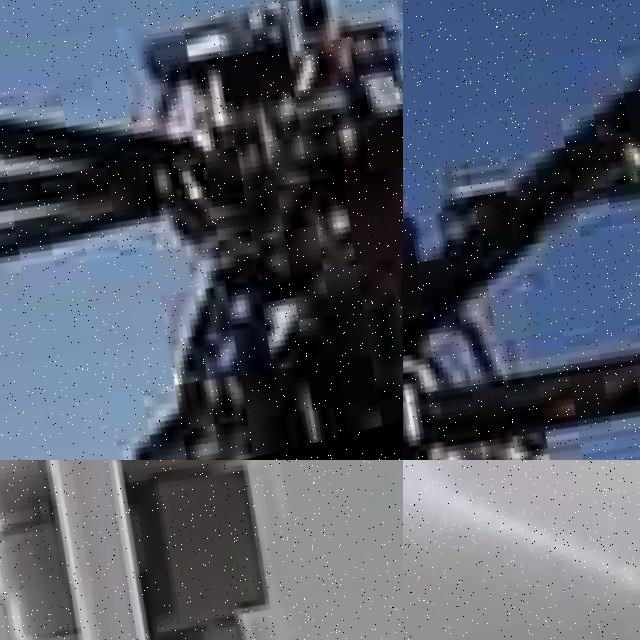0: (0, 0, 403, 460), (403, 0, 640, 460)
drone: (0, 460, 403, 640), (403, 460, 640, 640)
